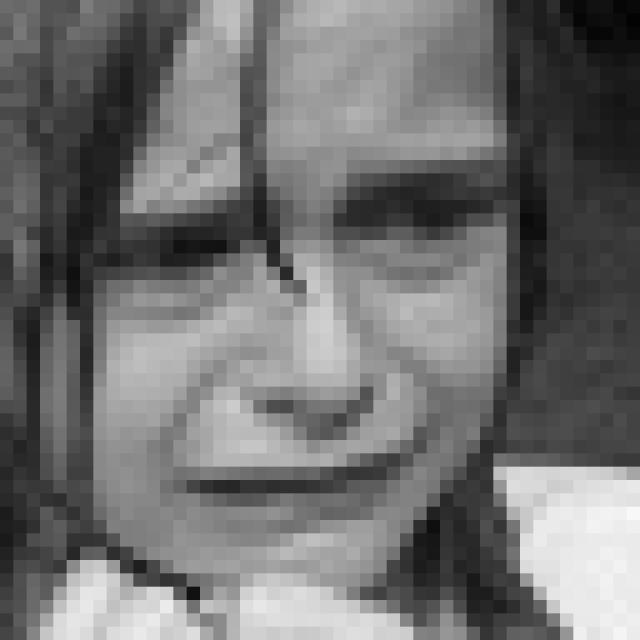fear: (95, 152, 502, 549)
